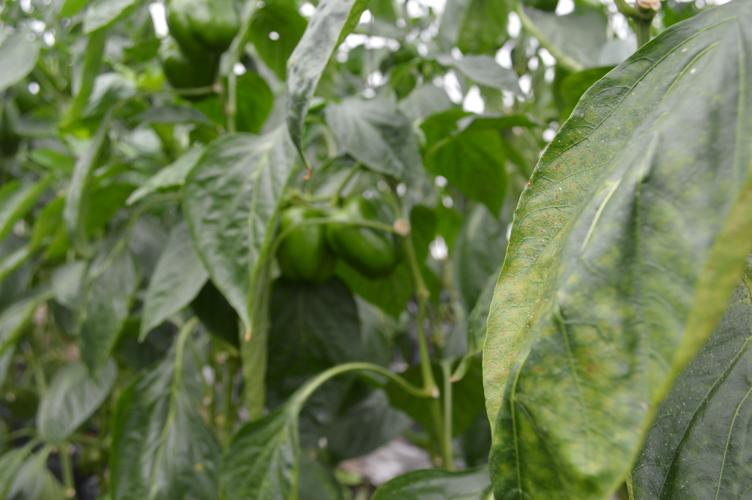BellPepper: (331, 194, 404, 275), (274, 206, 329, 282), (166, 4, 241, 51)
